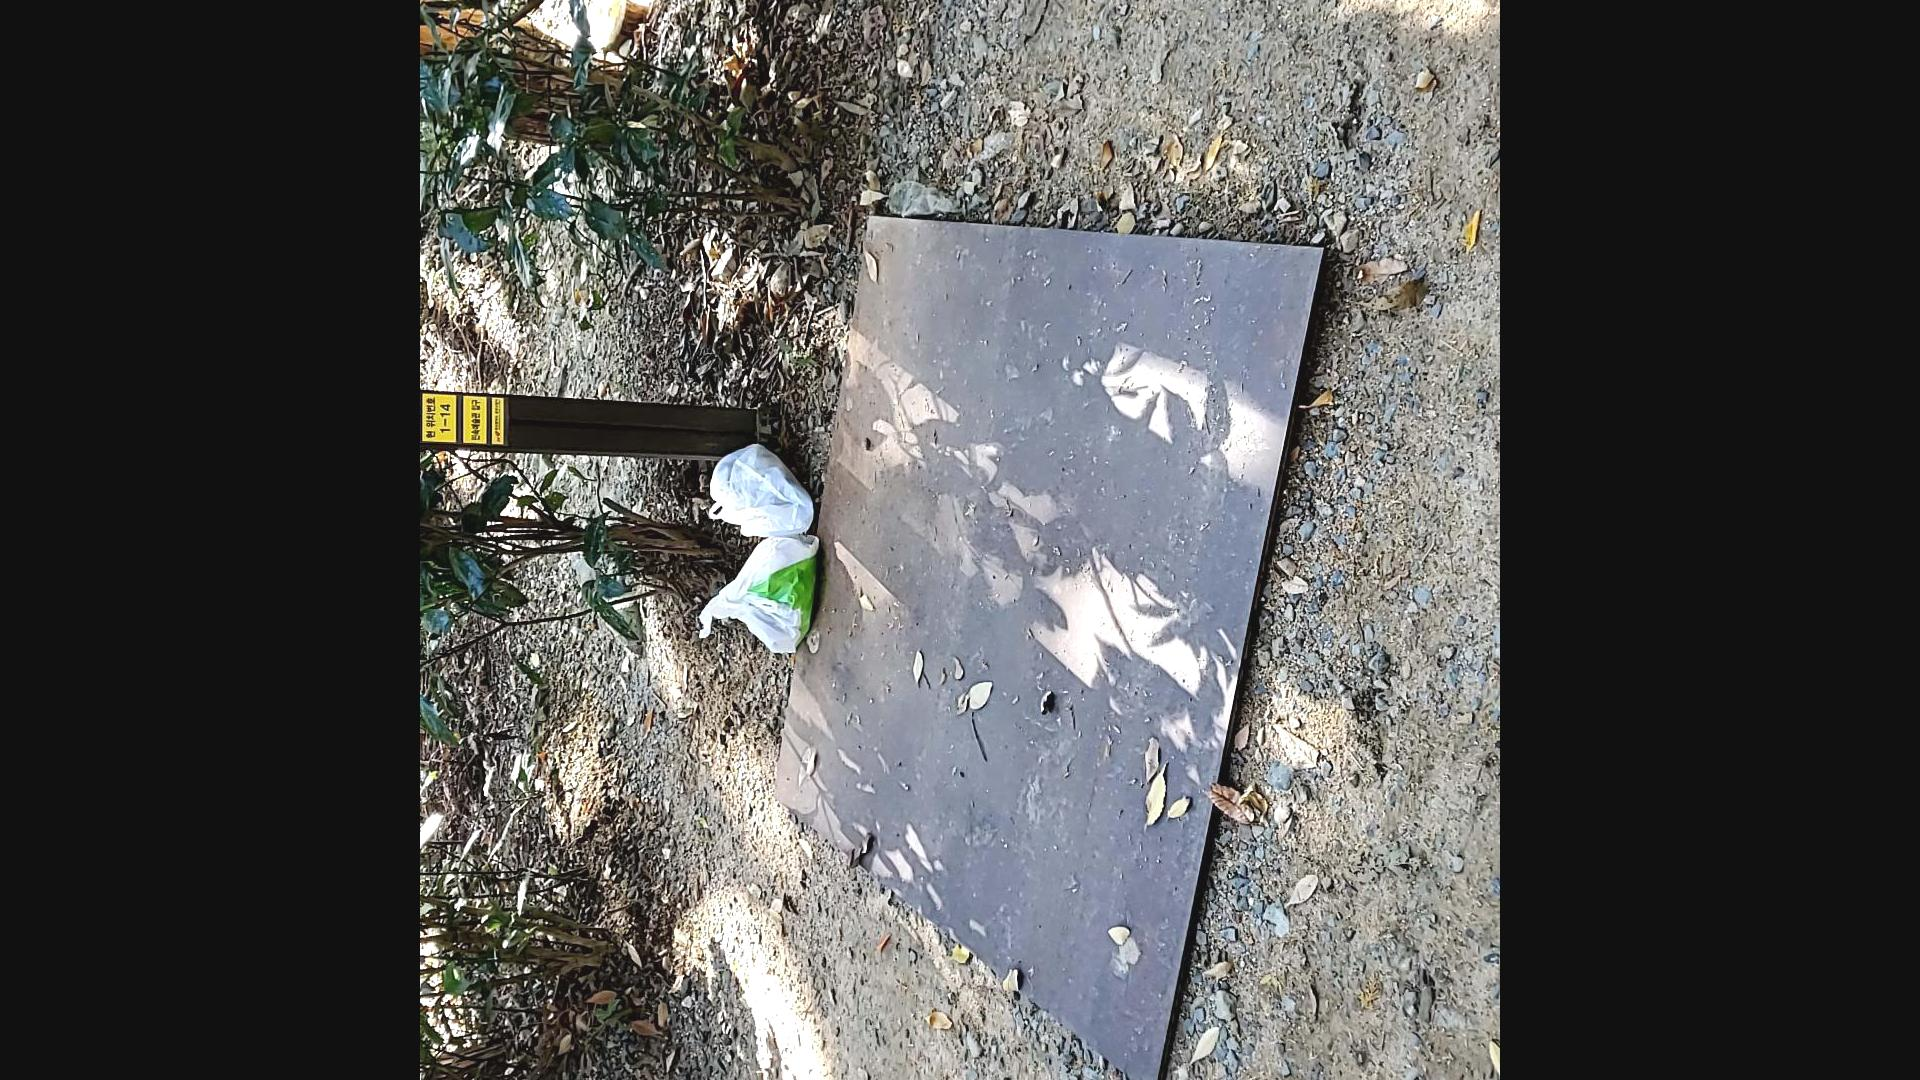white_bag: (688, 527, 820, 659), (702, 442, 823, 543)
